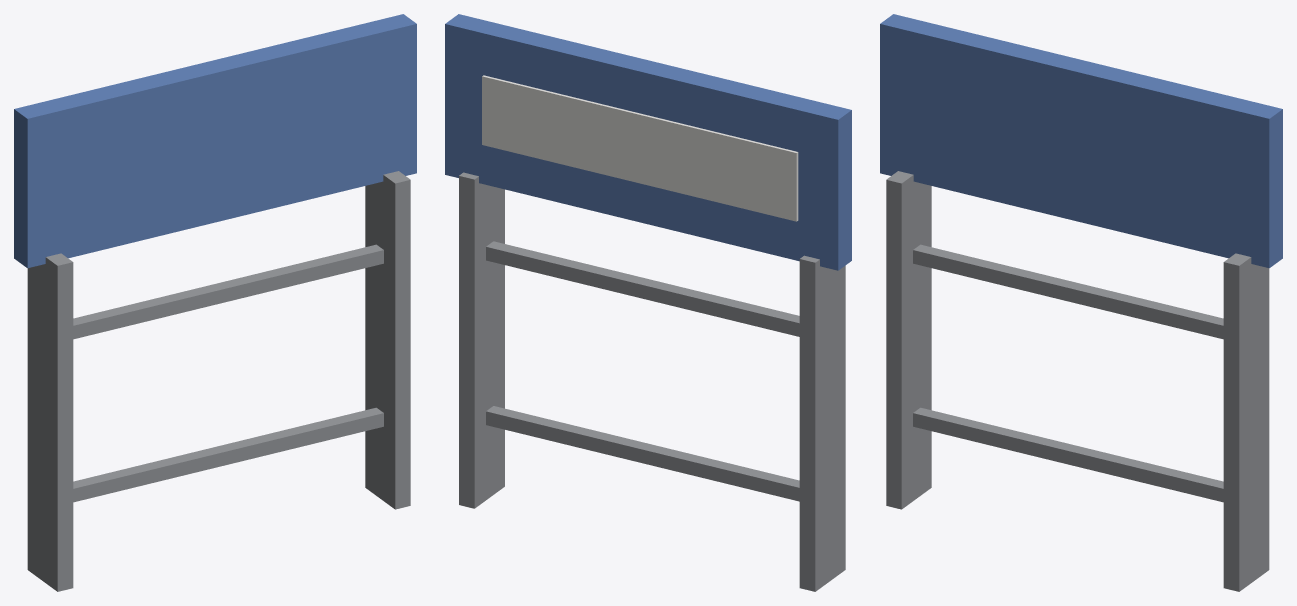
The model's file is prop_rooftop_blue.glb.
3 renders of one model, left to right at view 1: azimuth 30°, elevation 25°; view 2: azimuth 150°, elevation 25°; view 3: azimuth 330°, elevation 25°, orthographic.
Visible parts, largest first — view 1: rooftop_blue; view 2: rooftop_blue; view 3: rooftop_blue.
Part boxes in pixels (box(x1,y1,x2,y2)): rooftop_blue: box(14, 14, 416, 591); rooftop_blue: box(445, 14, 851, 591); rooftop_blue: box(880, 14, 1282, 591).
Size of the model in its own units: 3 by 3.45 by 0.4.
